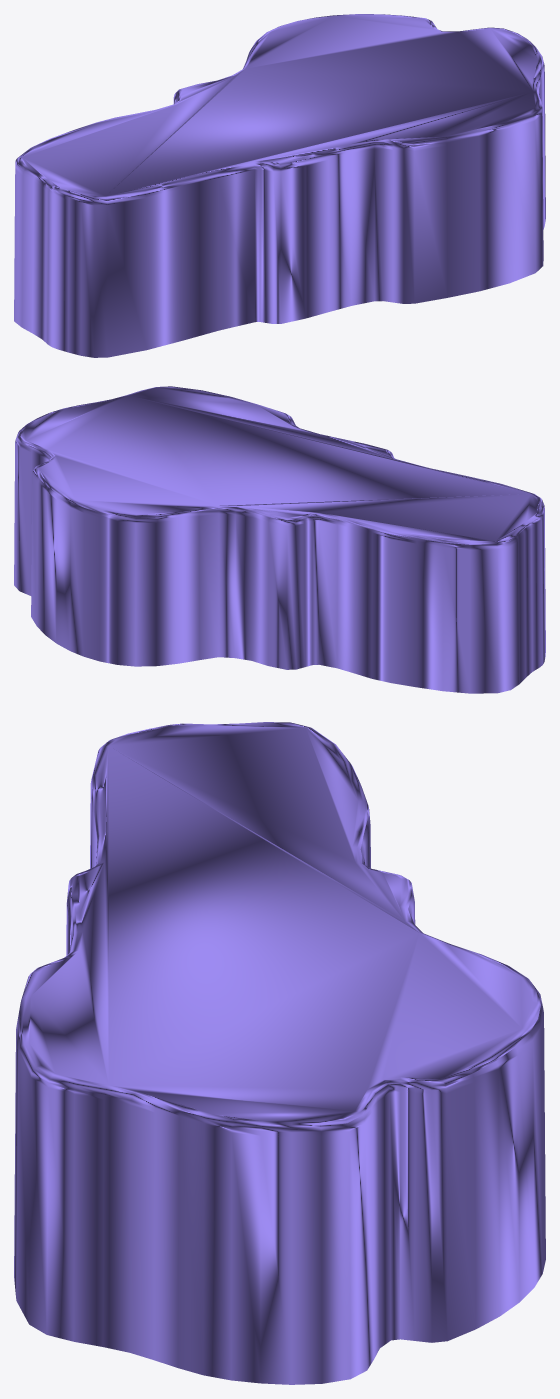
Rendered from lorville_noflyzone_suburb_redout_16.glb.
3 renders of one model, top to bottom at view 1: azimuth 30°, elevation 25°; view 2: azimuth 150°, elevation 25°; view 3: azimuth 270°, elevation 25°, orthographic. The views are drawn at different scales.
Bounding box in the file's own units: 5444 × 1591 × 2984.
